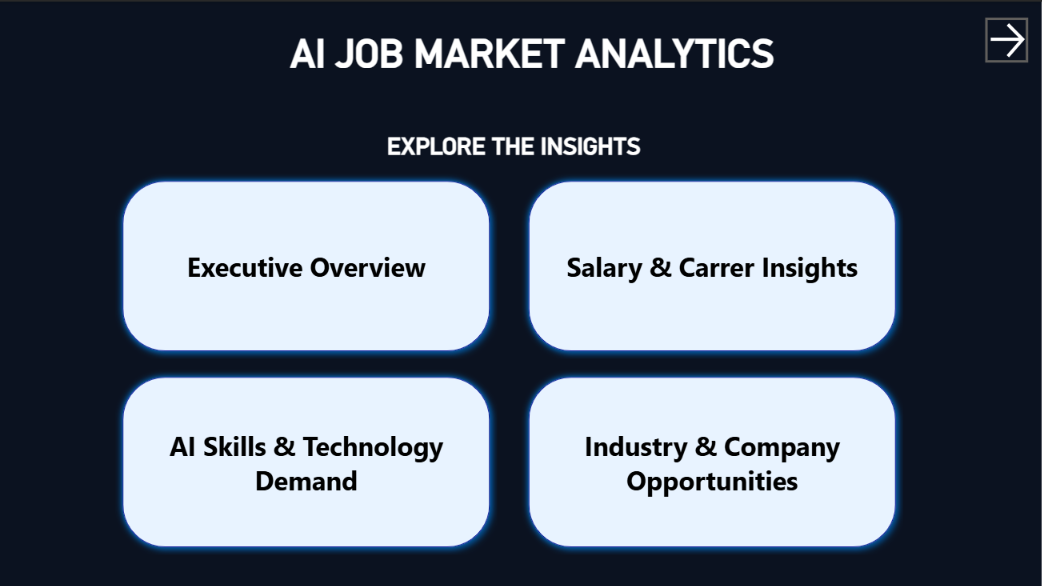

The dashboard page shown, as its layout file describes it:
{"tool":"powerbi","page":{"name":"Landing Page","canvas":[1280,720],"ordinal":0},"visuals":[{"type":"textbox","title":"AI JOB MARKET ANALYTICS","box":[71.2,19.6,1165.7,84.7],"z":0},{"type":"textbox","title":" EXPLORE THE INSIGHTS ","box":[0,145.2,1262.6,66.3],"z":1000},{"type":"actionButton","box":[1209.8,19.6,52.8,55.2],"z":2000},{"type":"shape","box":[142.3,211,468.7,227],"z":3000},{"type":"shape","box":[142.3,451.5,468.7,227],"z":4000},{"type":"shape","box":[640.5,211,468.7,227],"z":5000},{"type":"shape","box":[640.5,451.5,468.7,227],"z":6000}]}

Visuals, with their boxes in screenshot pixels (x1, y1, x2, y2), scaled from the page's 1280x720 canvas onto the 1042x586 screenshot:
"AI JOB MARKET ANALYTICS" textbox: [left=58, top=16, right=1007, bottom=85]
" EXPLORE THE INSIGHTS " textbox: [left=0, top=118, right=1028, bottom=172]
actionButton: [left=985, top=16, right=1028, bottom=61]
shape: [left=116, top=172, right=497, bottom=356]
shape: [left=116, top=367, right=497, bottom=552]
shape: [left=521, top=172, right=903, bottom=356]
shape: [left=521, top=367, right=903, bottom=552]
